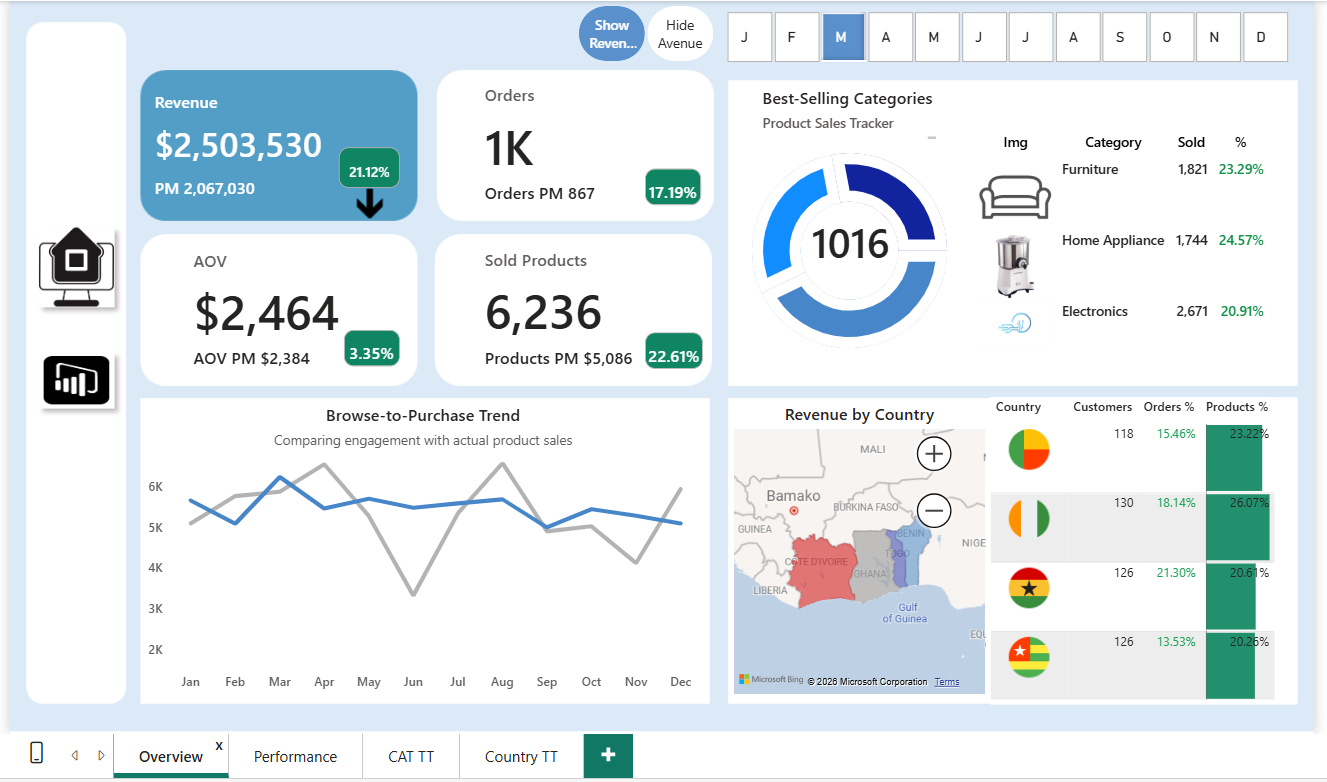

This screenshot's page, from the dashboard's own definition file:
{"tool":"powerbi","page":{"name":"Overview","canvas":[1280,720],"ordinal":0},"visuals":[{"type":"cardVisual","fields":{"Data":[".measure.Revenue"]},"box":[130.1,65,265,150.9],"z":0},{"type":"advancedSlicerVisual","fields":{"Values":["Calendar.Month Initials"]},"box":[704.7,5.6,558.4,59.1],"z":1000},{"type":"cardVisual","fields":{"Data":[".measure.Revenue Growth"]},"box":[322.7,143.6,60.1,40.5],"z":2000},{"type":"cardVisual","fields":{"Data":[".measure.sales"]},"box":[416,65,277.3,150.9],"z":3000},{"type":"cardVisual","fields":{"Data":[".measure.Orders Growth"]},"box":[623.3,164.4,55.2,36.8],"z":4000},{"type":"cardVisual","fields":{"Data":[".measure.AOV"]},"box":[130.1,229.4,265,144.8],"z":5000},{"type":"cardVisual","fields":{"Data":[".measure.Sold Products"]},"box":[416,231.9,265,138.7],"z":6000},{"type":"cardVisual","fields":{"Data":[".measure.Products Growth"]},"box":[623.3,325.2,57.7,36.8],"z":7000},{"type":"cardVisual","fields":{"Data":[".measure.AOV Growth"]},"box":[327.6,322.7,55.2,36.8],"z":8000},{"type":"actionButton","box":[327.6,181.6,51.5,34.4],"z":9000},{"type":"lineChart","title":"Browse-to-Purchase Trend","fields":{"Category":["Calendar.Month"],"Y":[".measure.Seen Products",".measure.Sold Products"]},"box":[130.1,395.1,550.9,290.8],"z":12000},{"type":"donutChart","fields":{"Category":["Products.Category"],"Y":[".measure.Sold Products"]},"box":[704.5,114.8,239.6,259.4],"z":13000},{"type":"tableEx","fields":{"Values":["Products Img.Img","Products Img.Category",".measure.Sold Products",".measure.Products Growth"]},"box":[944.1,126.2,318.9,245.2],"z":14000},{"type":"card","fields":{"Values":[".measure.Orders"]},"box":[766.9,214,116.2,45.4],"z":15000},{"type":"textbox","title":"Best-Selling Categories","box":[734.3,83.6,180,56.7],"z":16000},{"type":"tableEx","fields":{"Values":["Customers.Country Flags.Flag","MeaureTable.Customers",".measure.Orders Growth",".measure.Products Growth"]},"box":[962.5,388.4,300.5,301.9],"z":17000},{"type":"actionButton","box":[19.2,213.8,91.8,95.9],"z":18000},{"type":"actionButton","box":[19.2,335.8,91.8,72.6],"z":19000},{"type":"filledMap","fields":{"Category":["Country Flags.Country"]},"box":[705.5,394.5,256.8,291.2],"z":20000},{"type":"bookmarkNavigator","box":[558.6,5.3,133.7,54.3],"z":21000}]}

Visuals, with their boxes on the page's 1280x720 design canvas (x1, y1, x2, y2). These are canvas units, not pixel positions in the 1327x782 screenshot, which may show the page scaled, cropped or inside an application window:
cardVisual - .measure.Revenue: box(130, 65, 395, 216)
advancedSlicerVisual - Calendar.Month Initials: box(705, 6, 1263, 65)
cardVisual - .measure.Revenue Growth: box(323, 144, 383, 184)
cardVisual - .measure.sales: box(416, 65, 693, 216)
cardVisual - .measure.Orders Growth: box(623, 164, 678, 201)
cardVisual - .measure.AOV: box(130, 229, 395, 374)
cardVisual - .measure.Sold Products: box(416, 232, 681, 371)
cardVisual - .measure.Products Growth: box(623, 325, 681, 362)
cardVisual - .measure.AOV Growth: box(328, 323, 383, 360)
actionButton: box(328, 182, 379, 216)
"Browse-to-Purchase Trend" lineChart: box(130, 395, 681, 686)
donutChart - Products.Category x .measure.Sold Products: box(704, 115, 944, 374)
tableEx - Products Img.Img x Products Img.Category: box(944, 126, 1263, 371)
card - .measure.Orders: box(767, 214, 883, 259)
"Best-Selling Categories" textbox: box(734, 84, 914, 140)
tableEx - Customers.Country Flags.Flag x MeaureTable.Customers: box(962, 388, 1263, 690)
actionButton: box(19, 214, 111, 310)
actionButton: box(19, 336, 111, 408)
filledMap - Country Flags.Country: box(706, 394, 962, 686)
bookmarkNavigator: box(559, 5, 692, 60)
